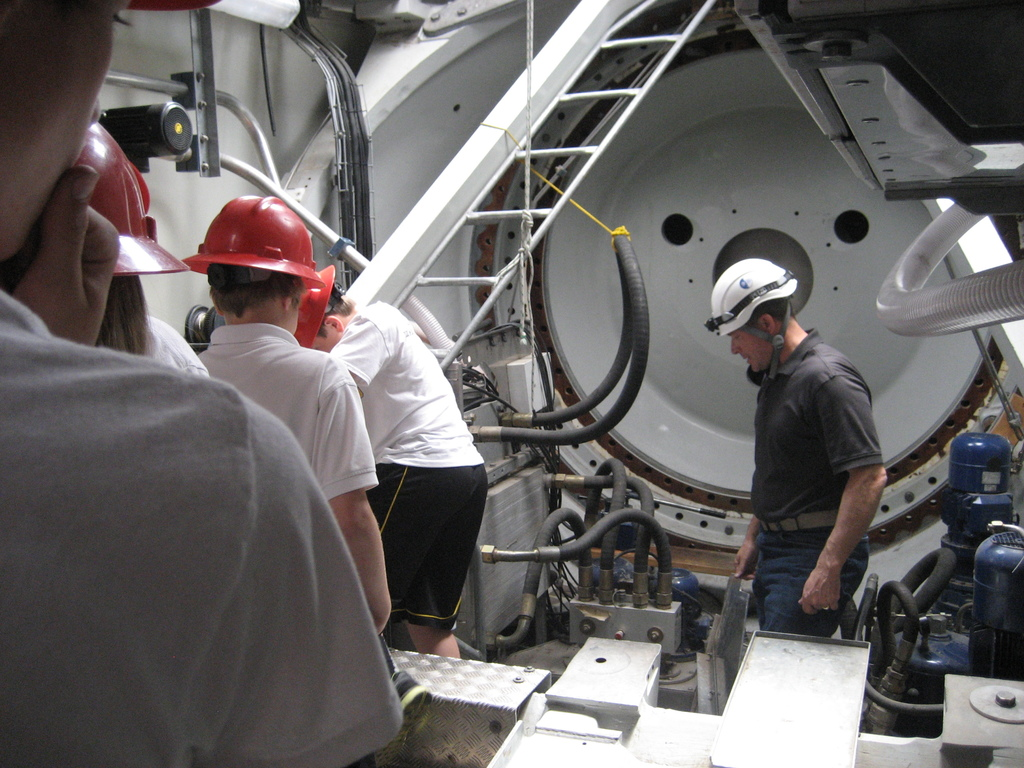Person: (0, 0, 409, 767), (179, 197, 396, 768), (288, 264, 491, 659), (700, 257, 889, 635), (67, 112, 209, 380)
